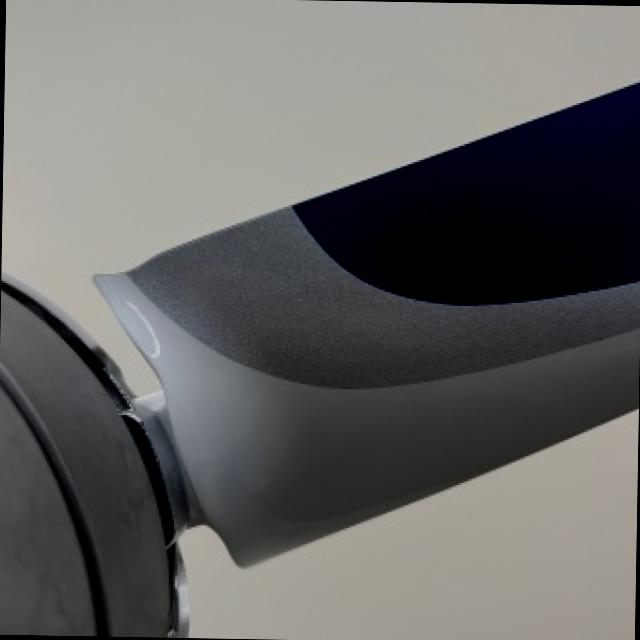healthy: (103, 209, 640, 560), (184, 409, 638, 640)
